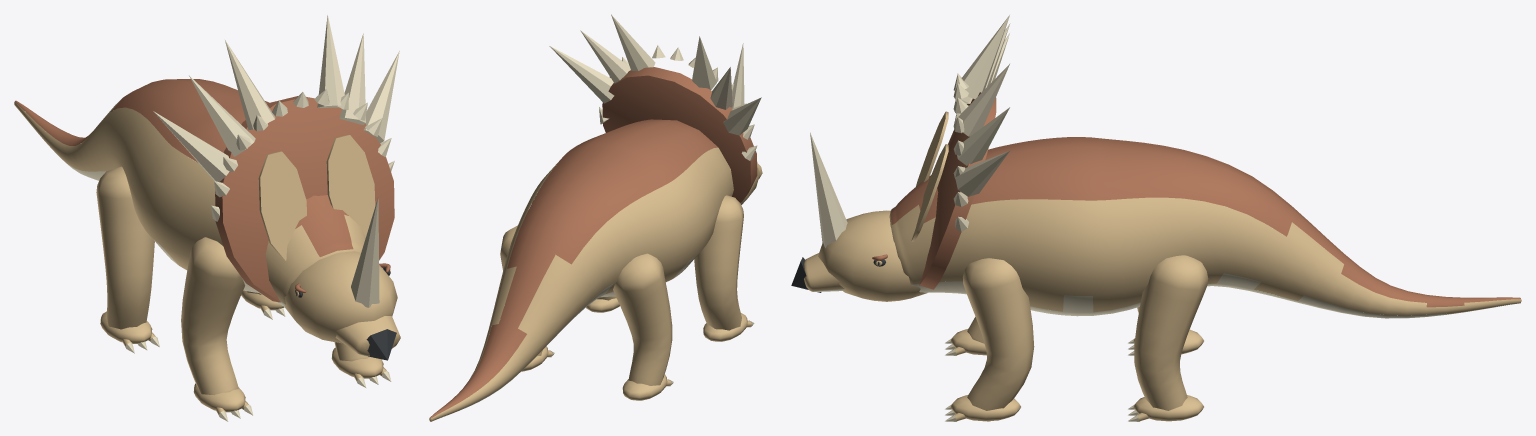
The model's file is primeval-frontier-styracosaurus-3019ea34__1715.glb.
3 renders of one model, left to right at view 1: azimuth 30°, elevation 25°; view 2: azimuth 150°, elevation 25°; view 3: azimuth 270°, elevation 25°, orthographic. The views are drawn at different scales.
Parts seen in each view (by area): view 1: styracosaurus; view 2: styracosaurus; view 3: styracosaurus.
Boxes of the visible parts, bbox=[...] form: styracosaurus: bbox=[14, 15, 400, 421]; styracosaurus: bbox=[429, 14, 762, 421]; styracosaurus: bbox=[791, 15, 1521, 421].
Size of the model in its own units: 2.4 by 3.29 by 6.27.
